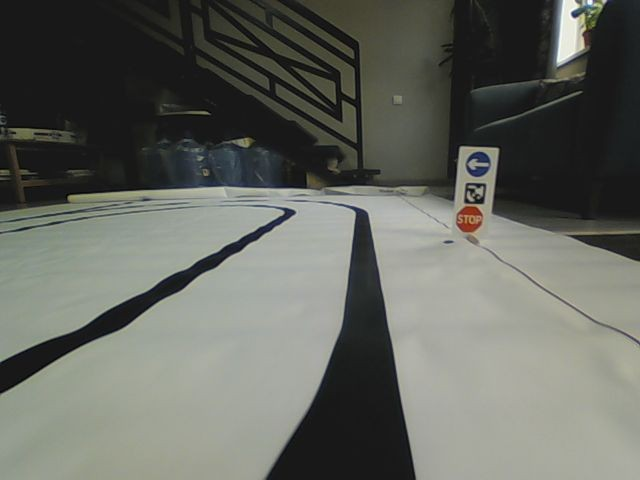Stop: (456, 206, 483, 231)
